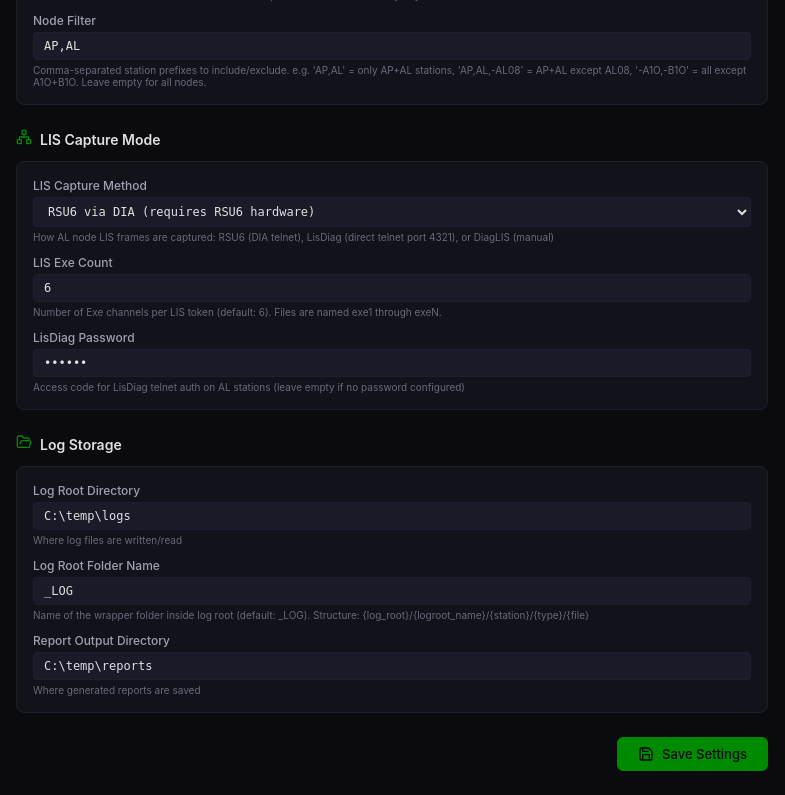
Test case: SettingsPage › shows Saved confirmation after successful save
The image size is (785, 795).
(page scrolled)
Click the button "Save Settings".
click(693, 754)  # box x1=617 y1=737 x2=768 y2=771
(page scrolled)
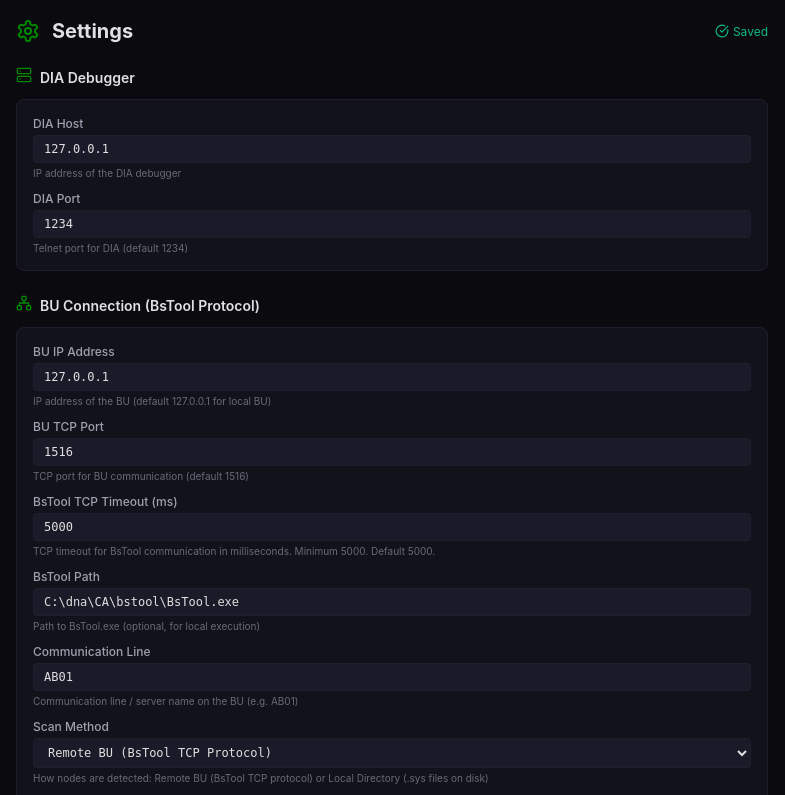
Expected: the text "Saved" is shown, x1=715 y1=24 x2=768 y2=38
